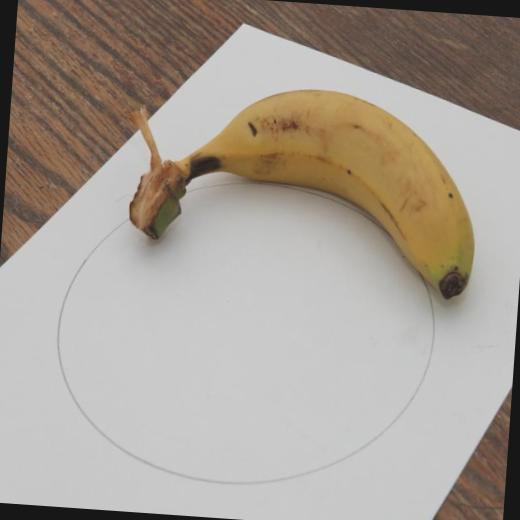Banana: (106, 71, 488, 304)
